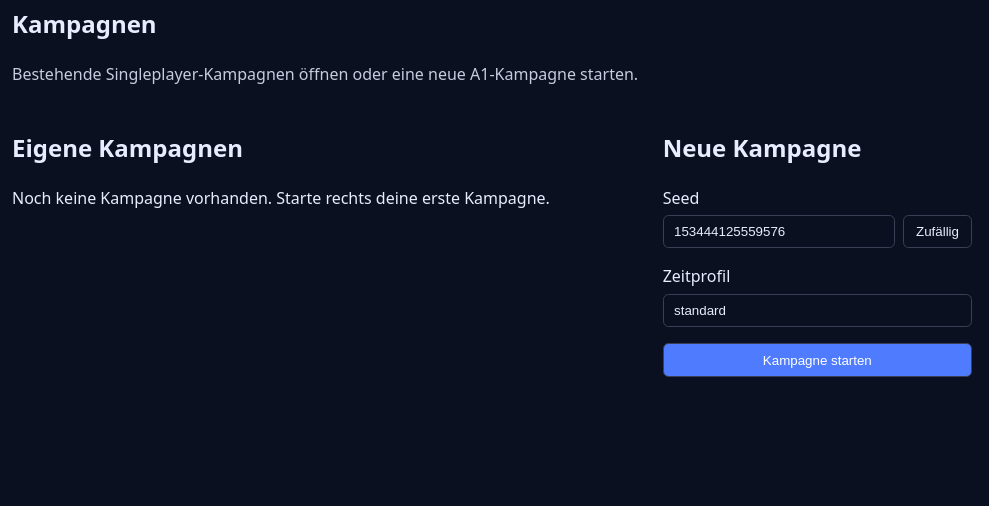
Test: CampaignListView › stellt Feld- und Allgemeinfehler des Servers dar und bleibt auf der Liste
Replace the text in the number field with test id "seed-input" with "42". click: (779, 232)
box: [663,215,895,248]
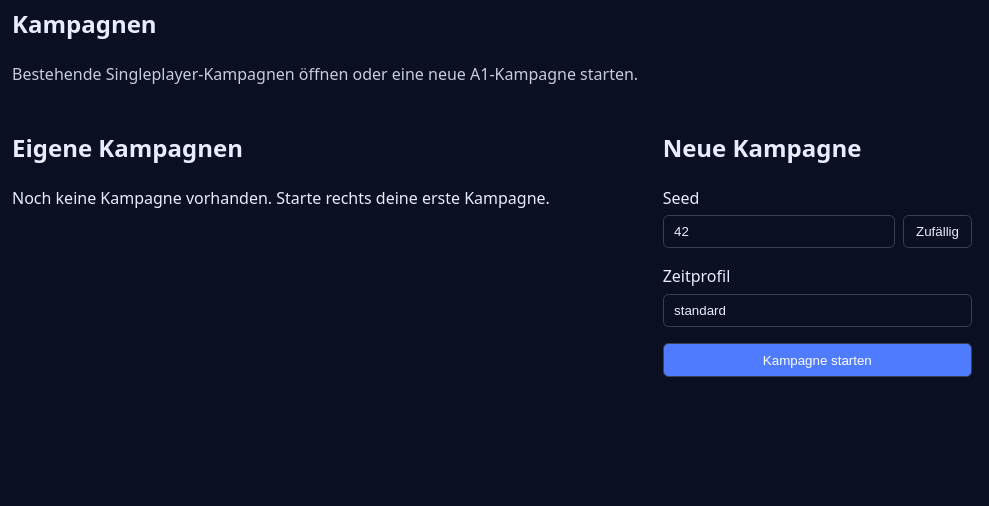
Replace the text in the field with test id "time-profile-input" with "unbekannt". click: (817, 310)
box: [663,294,972,327]
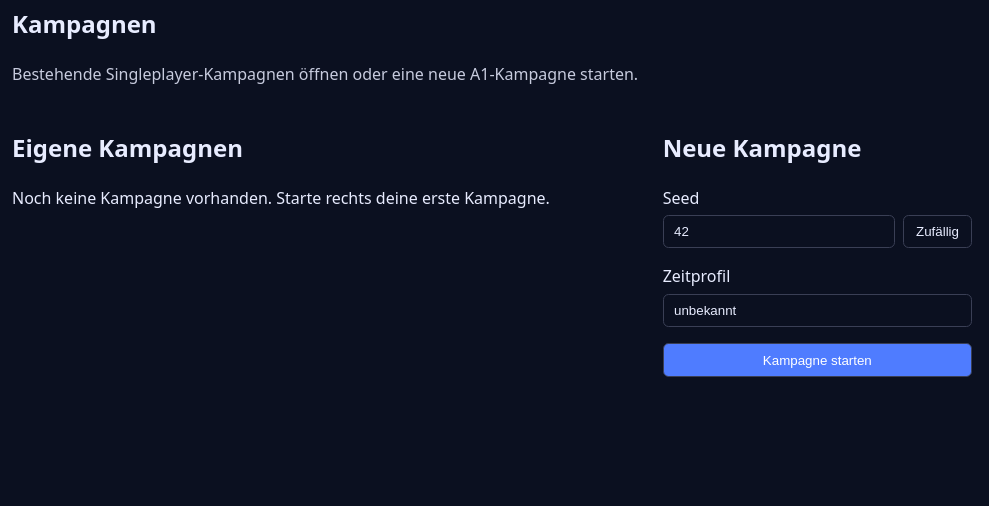
Submit the form, box [663,186,972,377]
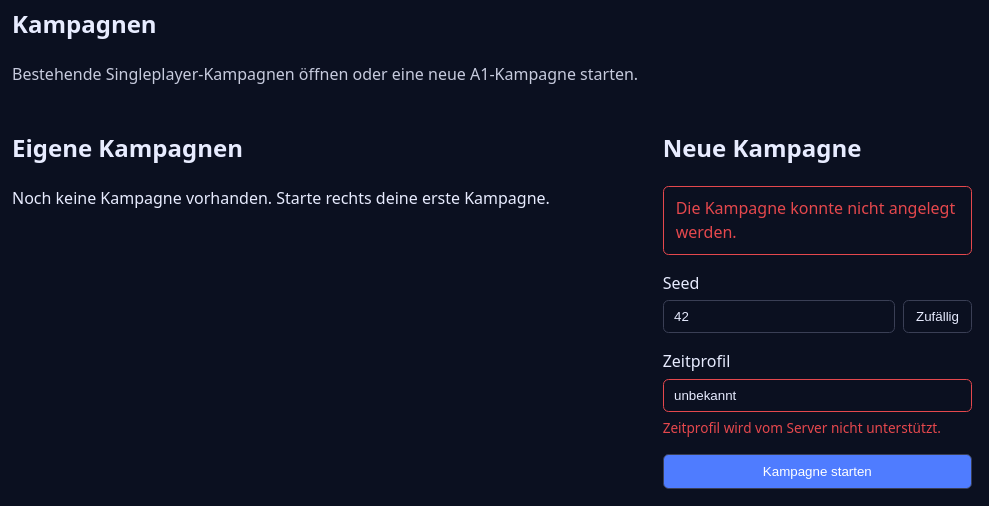
Check: the message with test id "create-error" reads "Die Kampagne konnte nicht angelegt werden.", box [676,197,955,243]
